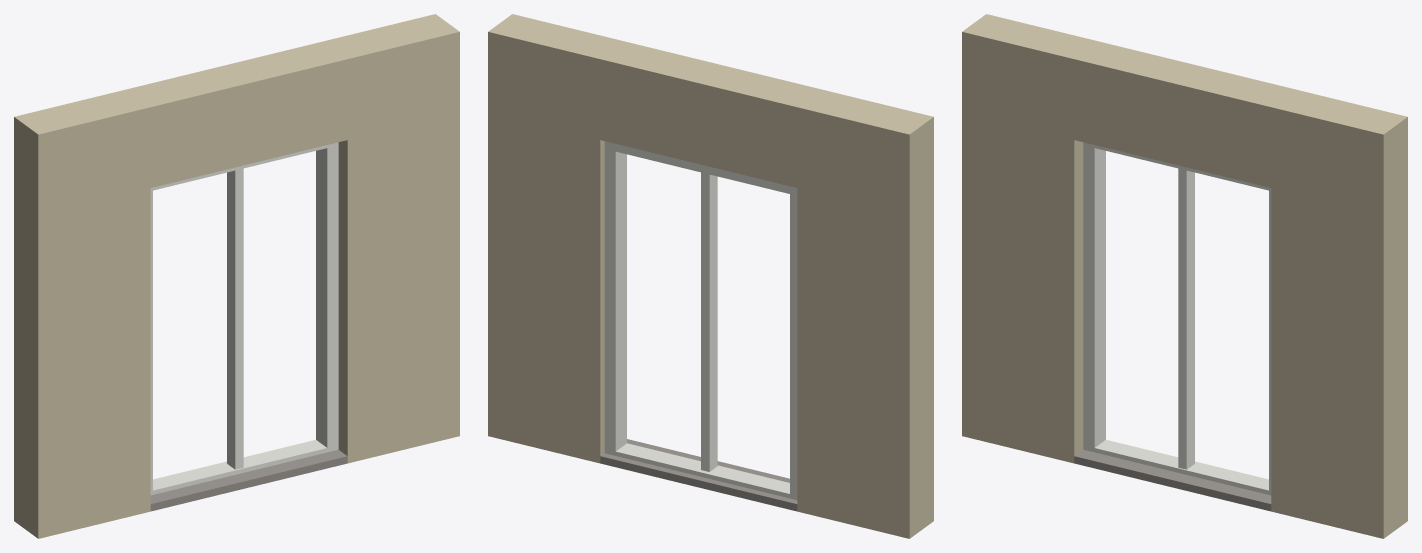
Rendered from Kit_plaster_frenchwindow.fbx.
The picture shows the model from 3 angles, left to right: view 1: azimuth 30°, elevation 25°; view 2: azimuth 150°, elevation 25°; view 3: azimuth 330°, elevation 25°; orthographic projection.
Parts seen in each view (by area): view 1: WallJambL, WallJambR, WallAbove, FrameR, Mullion, Threshold, FrameBottom, FrameL, FrameTop; view 2: WallJambL, WallJambR, WallAbove, FrameR, Mullion, Threshold, FrameBottom, FrameL, FrameTop; view 3: WallJambR, WallJambL, WallAbove, FrameL, Mullion, Threshold, FrameBottom, FrameR, FrameTop.
Boxes of the visible parts, left/top/right/bottom form: WallJambL: left=14, top=89, right=150, bottom=538; WallJambR: left=323, top=14, right=459, bottom=463; WallAbove: left=127, top=41, right=347, bottom=187; FrameR: left=316, top=142, right=338, bottom=451; Mullion: left=227, top=168, right=243, bottom=469; Threshold: left=150, top=449, right=347, bottom=511; FrameBottom: left=151, top=440, right=338, bottom=494; FrameL: left=150, top=187, right=152, bottom=495; FrameTop: left=150, top=145, right=327, bottom=190; WallJambL: left=797, top=89, right=933, bottom=538; WallJambR: left=488, top=14, right=624, bottom=463; WallAbove: left=600, top=41, right=820, bottom=187; FrameR: left=604, top=141, right=626, bottom=455; Mullion: left=701, top=172, right=717, bottom=471; Threshold: left=600, top=439, right=797, bottom=511; FrameBottom: left=605, top=443, right=797, bottom=499; FrameL: left=790, top=186, right=797, bottom=495; FrameTop: left=615, top=144, right=797, bottom=195; WallJambR: left=1271, top=89, right=1407, bottom=538; WallJambL: left=962, top=14, right=1098, bottom=463; WallAbove: left=1074, top=41, right=1294, bottom=187; FrameL: left=1083, top=142, right=1105, bottom=451; Mullion: left=1178, top=168, right=1194, bottom=469; Threshold: left=1074, top=449, right=1271, bottom=511; FrameBottom: left=1083, top=440, right=1270, bottom=494; FrameR: left=1269, top=188, right=1271, bottom=495; FrameTop: left=1094, top=145, right=1271, bottom=190.
Size of the model in its own units: 300 by 30 by 275.
